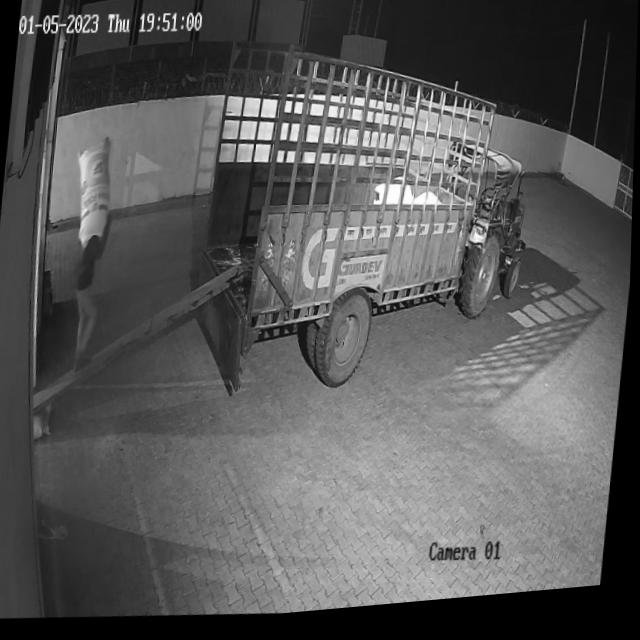sack: (69, 138, 116, 251)
